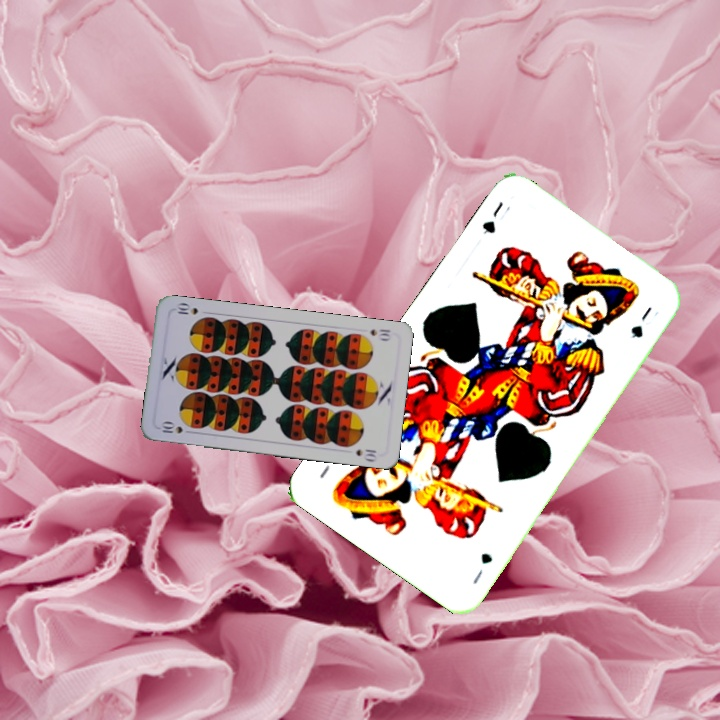GU: (478, 197, 513, 238), (469, 548, 496, 587)
S10: (157, 419, 185, 436), (367, 325, 393, 343)
